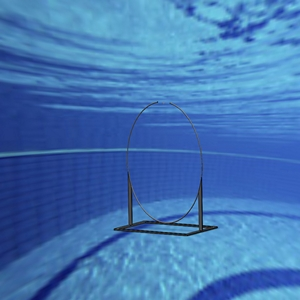circle: (113, 99, 221, 238)
